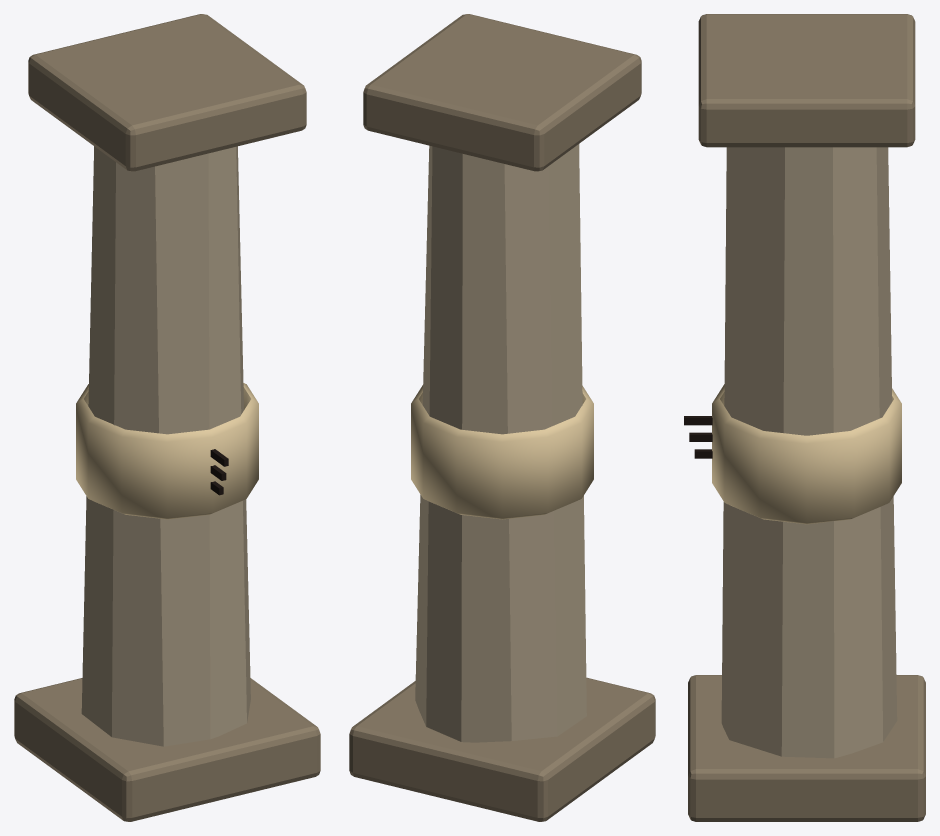
Rendered from pillar.glb.
3 views of the same model, side by side, from view 1: azimuth 30°, elevation 25°; view 2: azimuth 150°, elevation 25°; view 3: azimuth 270°, elevation 25° (orthographic). The views are drawn at different scales.
Visible parts, largest first — view 1: pillar; view 2: pillar; view 3: pillar.
Part boxes in pixels (left/top/right/bottom): pillar: left=14, top=14, right=320, bottom=821; pillar: left=349, top=14, right=655, bottom=821; pillar: left=684, top=14, right=925, bottom=821.
Bounding box in the file's own units: 0.9 × 3 × 0.915.
